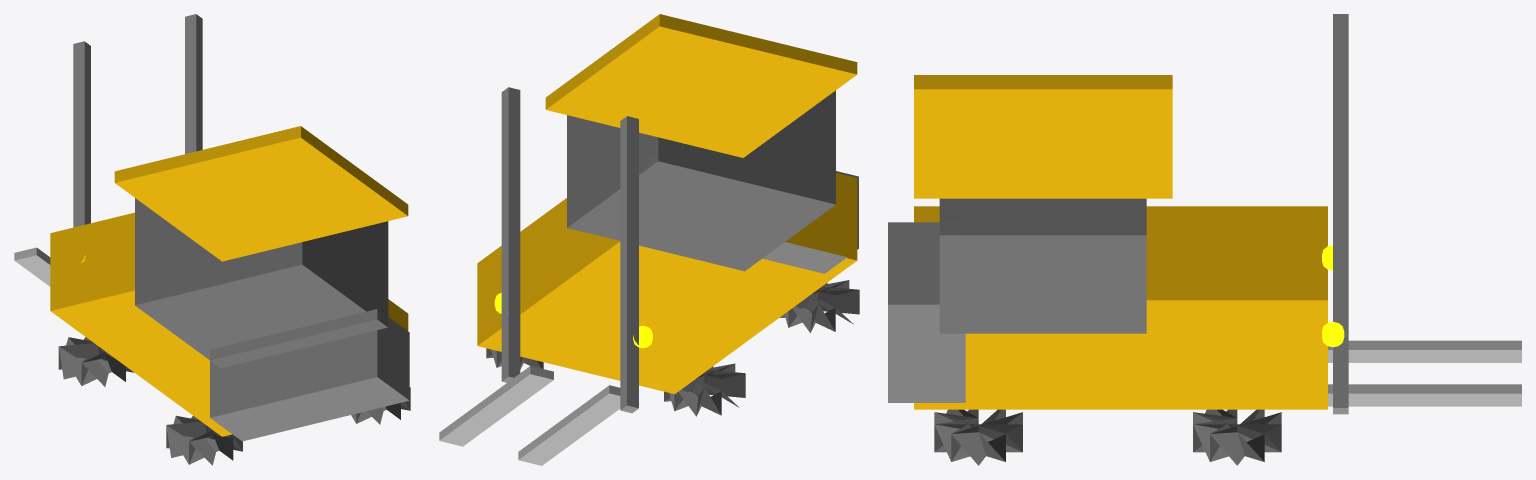
Rendered from forklift.glb.
3 views of the same model, side by side, from view 1: azimuth 30°, elevation 25°; view 2: azimuth 150°, elevation 25°; view 3: azimuth 270°, elevation 25° (orthographic). The views are drawn at different scales.
Visible parts, largest first — view 1: cabin, roof, cw, body, mastL, mastR, wheelFL, wheelBL, forkL, wheelFR; view 2: body, cabin, roof, mastR, mastL, forkR, forkL, wheelBL, wheelFL, cw; view 3: body, roof, cabin, cw, mastR, forkR, forkL, wheelBR, wheelFR, mastL.
Part boxes in pixels (x1,y1,x2,y2): cabin: (135, 198, 388, 368); roof: (114, 126, 408, 261); cw: (210, 309, 409, 441); body: (50, 212, 408, 436); mastL: (73, 41, 90, 227); mastR: (185, 14, 202, 153); wheelFL: (166, 415, 242, 465); wheelBL: (58, 337, 134, 386); forkL: (14, 247, 50, 286); wheelFR: (351, 387, 410, 424); body: (477, 173, 857, 394); cabin: (567, 90, 835, 271); roof: (545, 14, 857, 157); mastR: (501, 87, 520, 382); mastL: (620, 116, 638, 413); forkR: (439, 366, 553, 446); forkL: (518, 385, 620, 465); wheelBL: (664, 363, 745, 416); wheelFL: (779, 280, 859, 332); cw: (647, 153, 858, 273); body: (914, 206, 1327, 409); roof: (914, 75, 1172, 198); cabin: (939, 198, 1146, 333); cw: (888, 222, 965, 402); mastR: (1333, 79, 1348, 414); forkR: (1328, 384, 1521, 406); forkL: (1328, 340, 1521, 362); wheelBR: (1193, 409, 1281, 465); wheelFR: (934, 409, 1022, 465); mastL: (1333, 14, 1348, 79).
Bounding box in the file's own units: 1.26 × 1.48 × 2.45.
